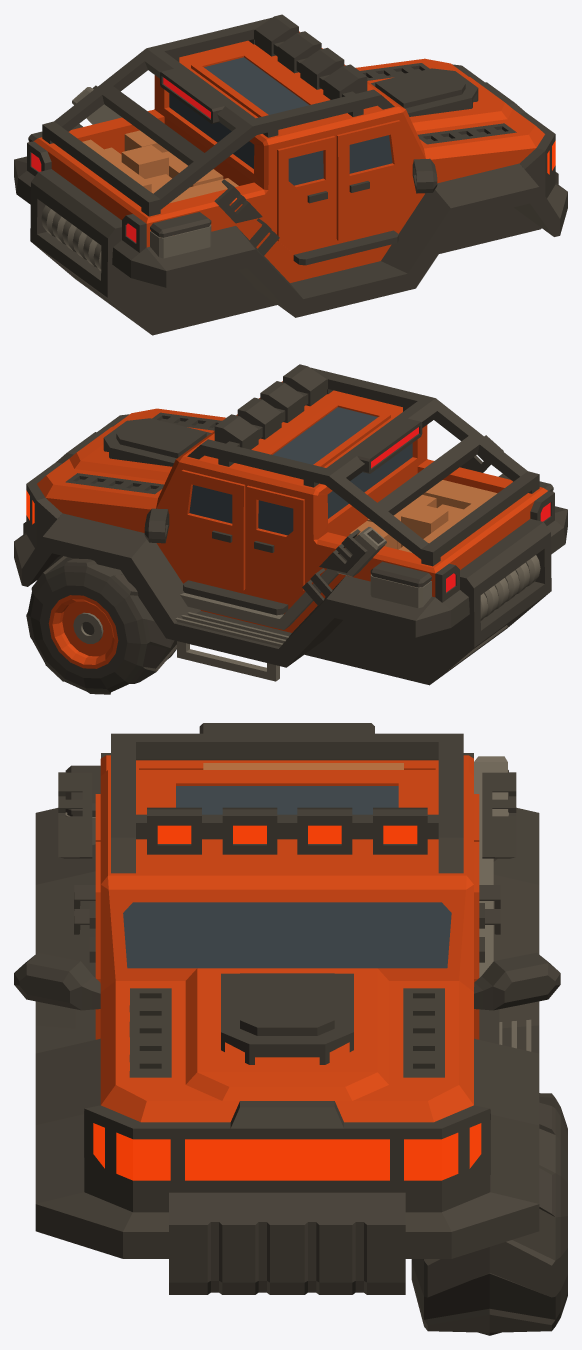
3 views of the same model, one above another, from view 1: azimuth 30°, elevation 25°; view 2: azimuth 150°, elevation 25°; view 3: azimuth 270°, elevation 25° (orthographic). The views are drawn at different scales.
Visible parts, largest first — view 1: bodyBlack, bodyRed, glass, boxes, bodyMetal, stopLights; view 2: bodyBlack, bodyRed, wheel, bodyMetal, glass, boxes, stopLights; view 3: bodyBlack, bodyRed, glass, wheel, headlights, bodyMetal, boxes.
Boxes of the visible parts, <box> form: bodyBlack: <box>14,14,567,335</box>; bodyRed: <box>34,31,544,282</box>; glass: <box>169,57,392,185</box>; boxes: <box>82,130,238,203</box>; bodyMetal: <box>28,87,211,270</box>; stopLights: <box>31,77,210,242</box>; bodyBlack: <box>14,364,567,685</box>; bodyRed: <box>37,381,547,632</box>; wheel: <box>26,555,176,694</box>; bodyMetal: <box>175,491,553,681</box>; glass: <box>189,407,412,535</box>; boxes: <box>349,480,497,552</box>; stopLights: <box>371,427,550,592</box>; bodyBlack: <box>14,723,560,1294</box>; bodyRed: <box>95,755,479,1122</box>; glass: <box>123,786,451,968</box>; wheel: <box>411,1093,567,1335</box>; headlights: <box>116,825,458,1180</box>; bodyMetal: <box>65,756,531,1051</box>; boxes: <box>203,763,403,769</box>.
Bounding box in the file's own units: 2.99 × 1.67 × 1.91.
